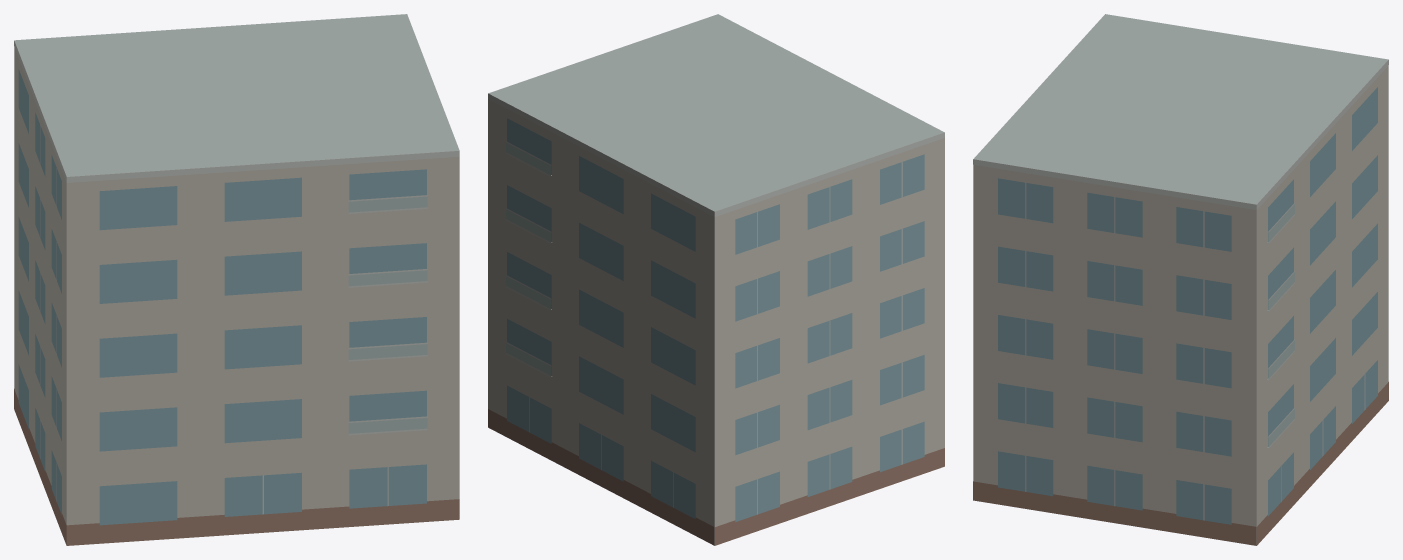
Rendered from survey-upis-32538057.glb.
The picture shows the model from 3 angles, left to right: view 1: azimuth 30°, elevation 25°; view 2: azimuth 150°, elevation 25°; view 3: azimuth 270°, elevation 25°; orthographic projection. The views are drawn at different scales.
Parts seen in each view (by area): view 1: survey-upis-32538057.tmp; view 2: survey-upis-32538057.tmp; view 3: survey-upis-32538057.tmp.
Part boxes in pixels (<box>): survey-upis-32538057.tmp: <box>14,14,459,545</box>; survey-upis-32538057.tmp: <box>488,14,944,545</box>; survey-upis-32538057.tmp: <box>973,14,1388,545</box>.
Bounding box in the file's own units: 18.28 × 15.25 × 16.85.
